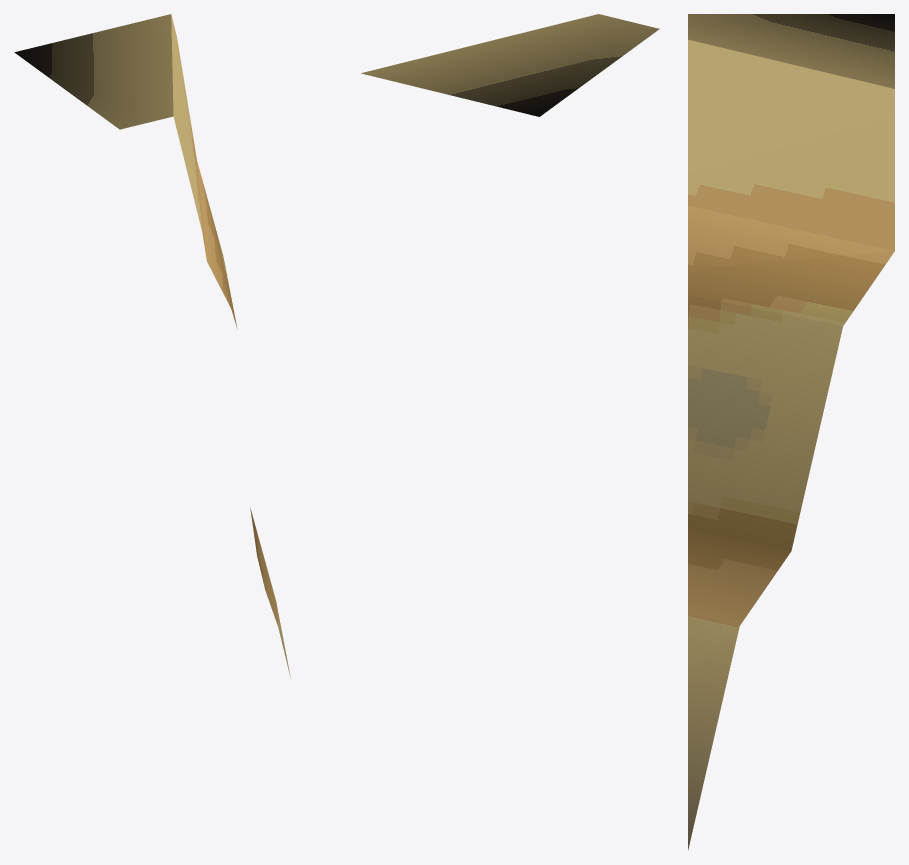
The picture shows the model from 3 angles, left to right: view 1: azimuth 30°, elevation 25°; view 2: azimuth 150°, elevation 25°; view 3: azimuth 270°, elevation 25°; orthographic projection. The views are drawn at different scales.
Size of the model in its own units: 1 by 4 by 1.
Materials: 2 (2 with a texture image).
